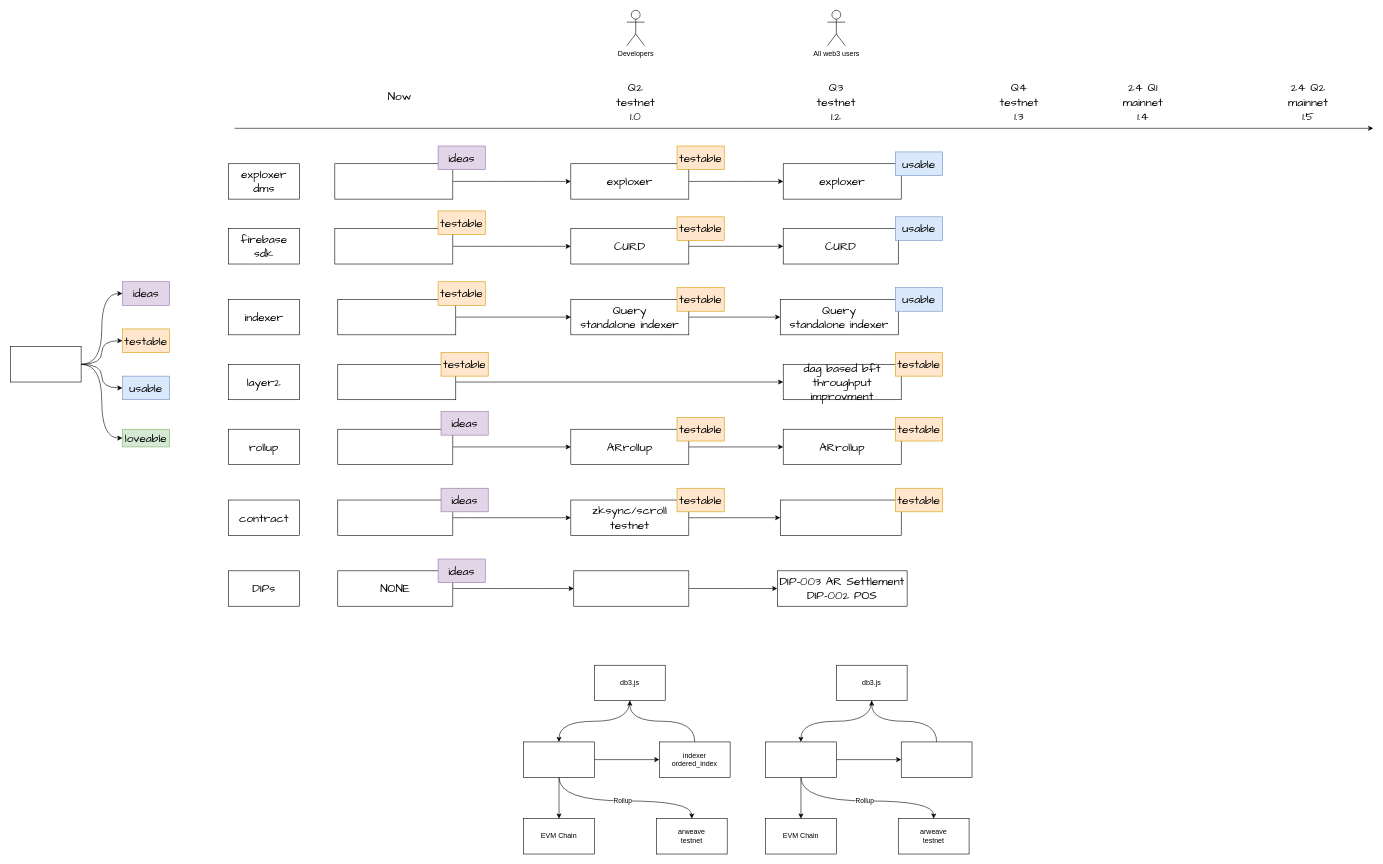
Some shapes in this 1383 by 864 pixel diagram are drawn without their labels. The shapes that lost their labels are listed below. From the top down, each one's centre as x and y in pixels, then its label:
At [393,181]: "a simple dms".
At [393,246]: "CUD".
At [396,317]: "Query".
At [45,364]: "state".
At [396,382]: "Based on Tendermint".
At [395,447]: "not started yet".
At [395,517]: "demo".
At [840,517]: "zksync/scroll testnet facet".
At [631,588]: "DIP-000 format DIP-001 dag-bft".
At [558,759]: "tendermint bft".
At [800,759]: "dag based bft".
At [936,759]: "indexer graph_index".
